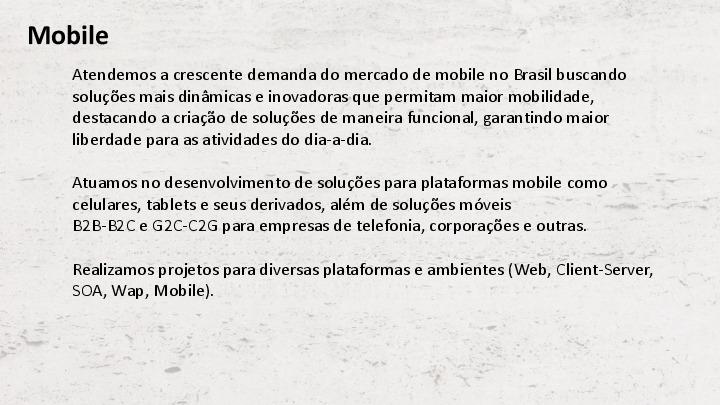paragraph: (62, 64, 676, 324)
title: (22, 7, 124, 52)
